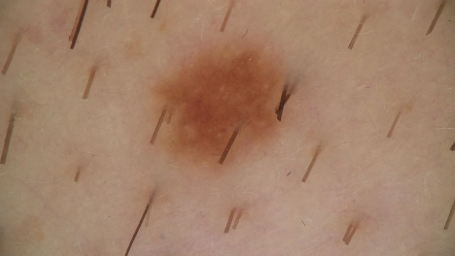nevus: (161, 48, 277, 161)
